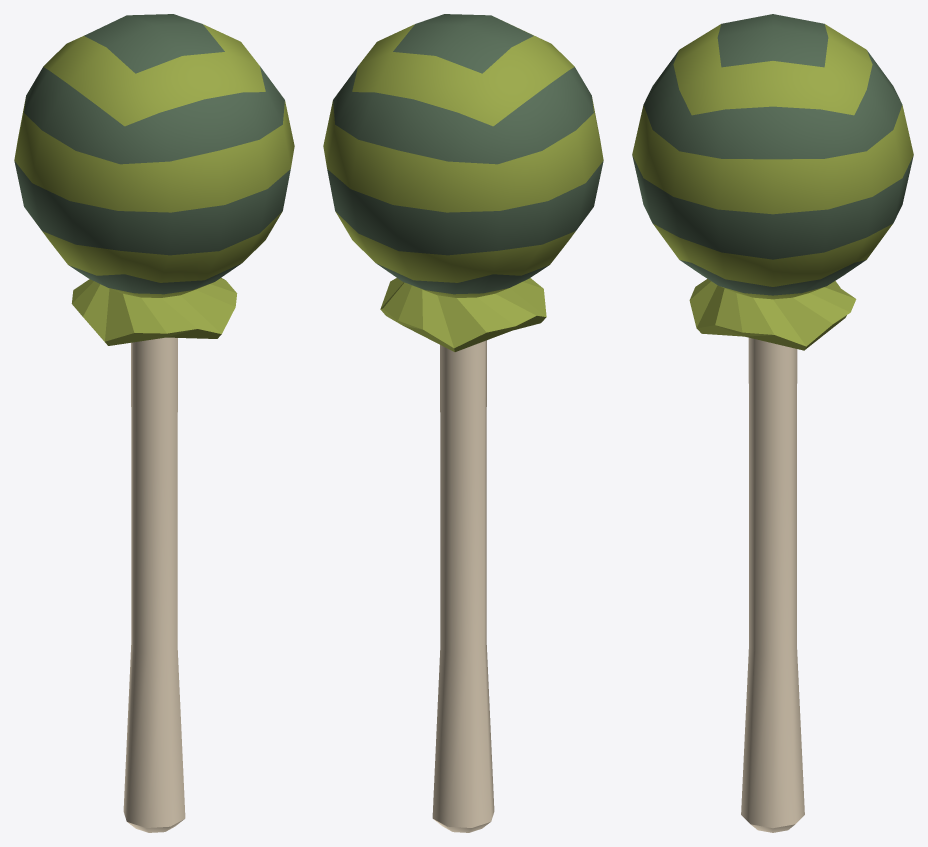
Rendered from Candy_3b.fbx.
3 renders of one model, left to right at view 1: azimuth 30°, elevation 25°; view 2: azimuth 150°, elevation 25°; view 3: azimuth 270°, elevation 25°, orthographic.
Visible parts, largest first — view 1: Candy_3b; view 2: Candy_3b; view 3: Candy_3b.
Part boxes in pixels (bbox=[...]): Candy_3b: bbox=[14, 14, 294, 832]; Candy_3b: bbox=[323, 14, 603, 832]; Candy_3b: bbox=[632, 14, 913, 832].
Size of the model in its own units: 5.03 by 15.79 by 5.03.
